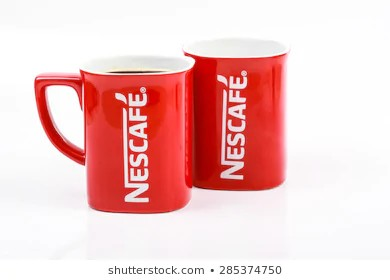nescafe-mug: (38, 55, 196, 217), (188, 38, 288, 192)
